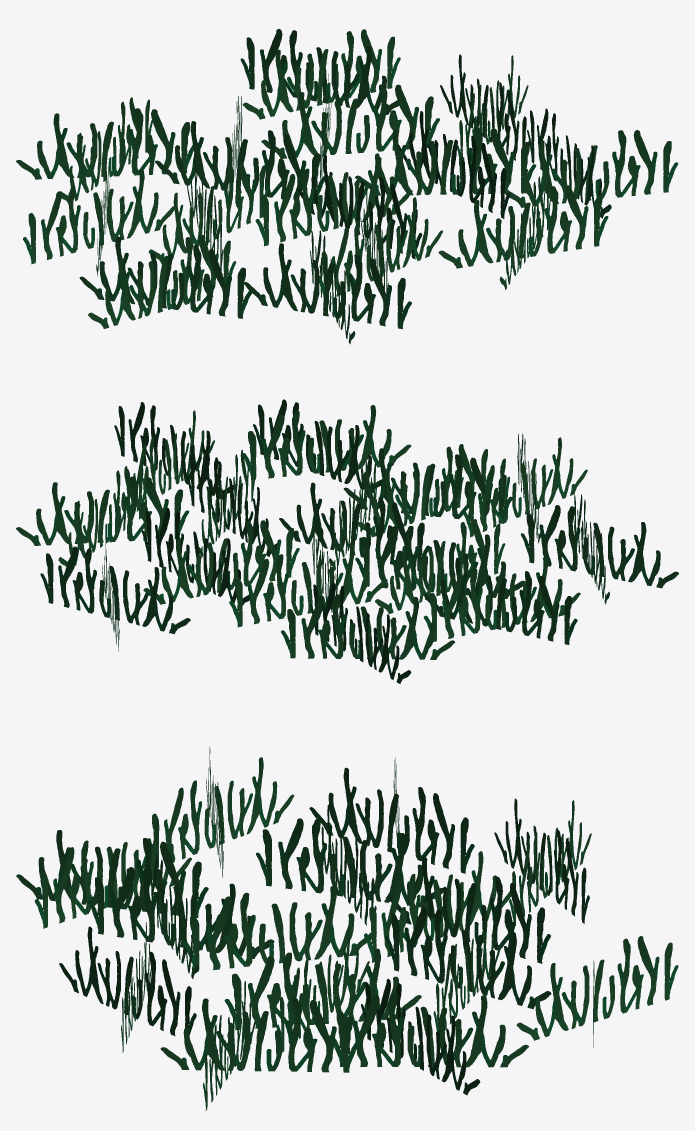
The model's file is Tropics Grass Patch.fbx.
3 views of the same model, one above another, from view 1: azimuth 30°, elevation 25°; view 2: azimuth 150°, elevation 25°; view 3: azimuth 270°, elevation 25° (orthographic). The views are drawn at different scales.
Parts seen in each view (by area): view 1: Tropics Grass_LOD0; view 2: Tropics Grass_LOD0; view 3: Tropics Grass_LOD0.
Part boxes in pixels (left/top/right/bottom): Tropics Grass_LOD0: left=16, top=29, right=678, bottom=344; Tropics Grass_LOD0: left=16, top=399, right=678, bottom=683; Tropics Grass_LOD0: left=16, top=746, right=678, bottom=1110.
Size of what is drawn, in the model's own units: 1198 by 137 by 1060.
